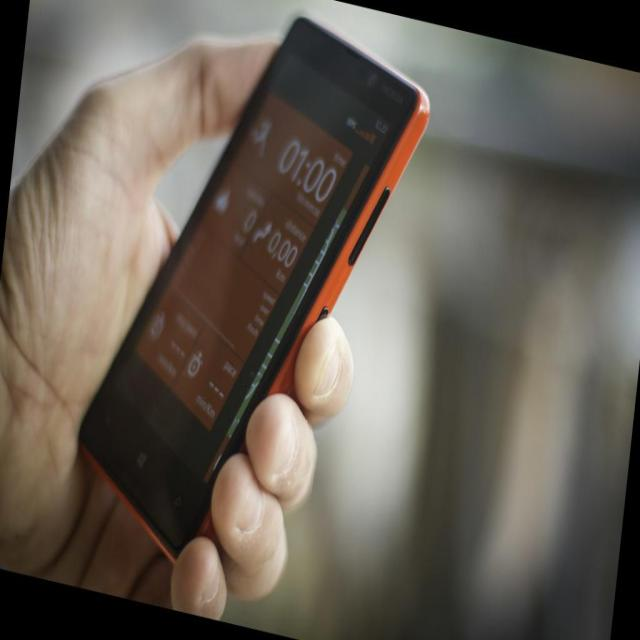handphone: (83, 21, 428, 558)
